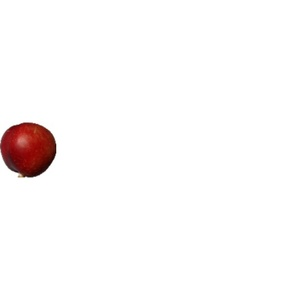nectarina: (1, 125, 57, 178)
